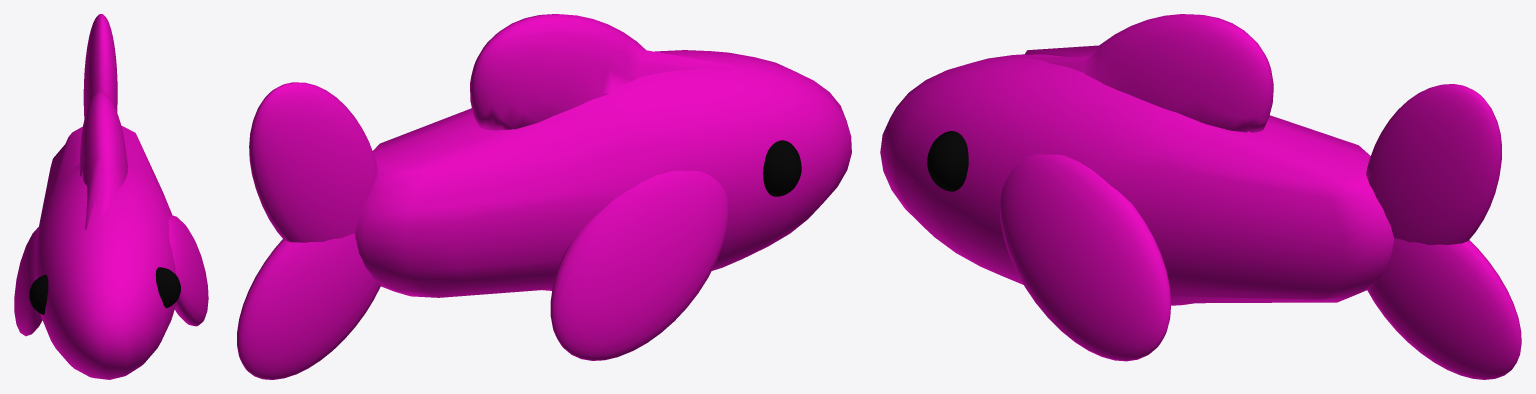
File: fish2.fbx
The picture shows the model from 3 angles, left to right: view 1: azimuth 30°, elevation 25°; view 2: azimuth 150°, elevation 25°; view 3: azimuth 270°, elevation 25°; orthographic projection. The views are drawn at different scales.
Visible parts, largest first — view 1: Fish_Plush_Parts_pasted__pasted__pSphere2, pSphere3; view 2: Fish_Plush_Parts_pasted__pasted__pSphere2, pSphere3; view 3: Fish_Plush_Parts_pasted__pasted__pSphere2, pSphere3.
Part boxes in pixels (<box>): Fish_Plush_Parts_pasted__pasted__pSphere2: <box>14,14,208,379</box>; pSphere3: <box>29,267,180,314</box>; Fish_Plush_Parts_pasted__pasted__pSphere2: <box>237,14,851,379</box>; pSphere3: <box>763,140,801,196</box>; Fish_Plush_Parts_pasted__pasted__pSphere2: <box>880,14,1521,379</box>; pSphere3: <box>927,131,968,191</box>.
Size of the model in its own units: 1.29 by 1.16 by 2.14.
